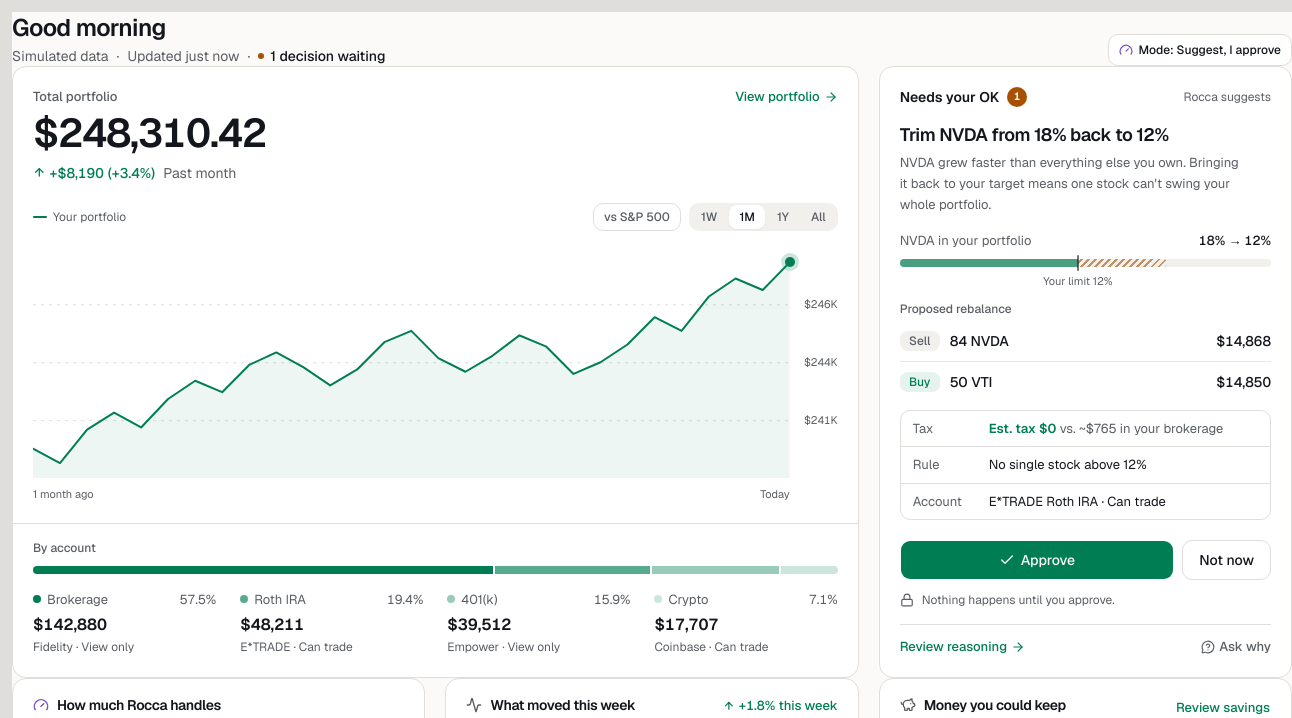
Test case: Overview › switches the chart range
Expected: the button "1M" is shown, [729,204,765,228]
Click the button "1W".
click(709, 216)  # box [691,204,727,228]
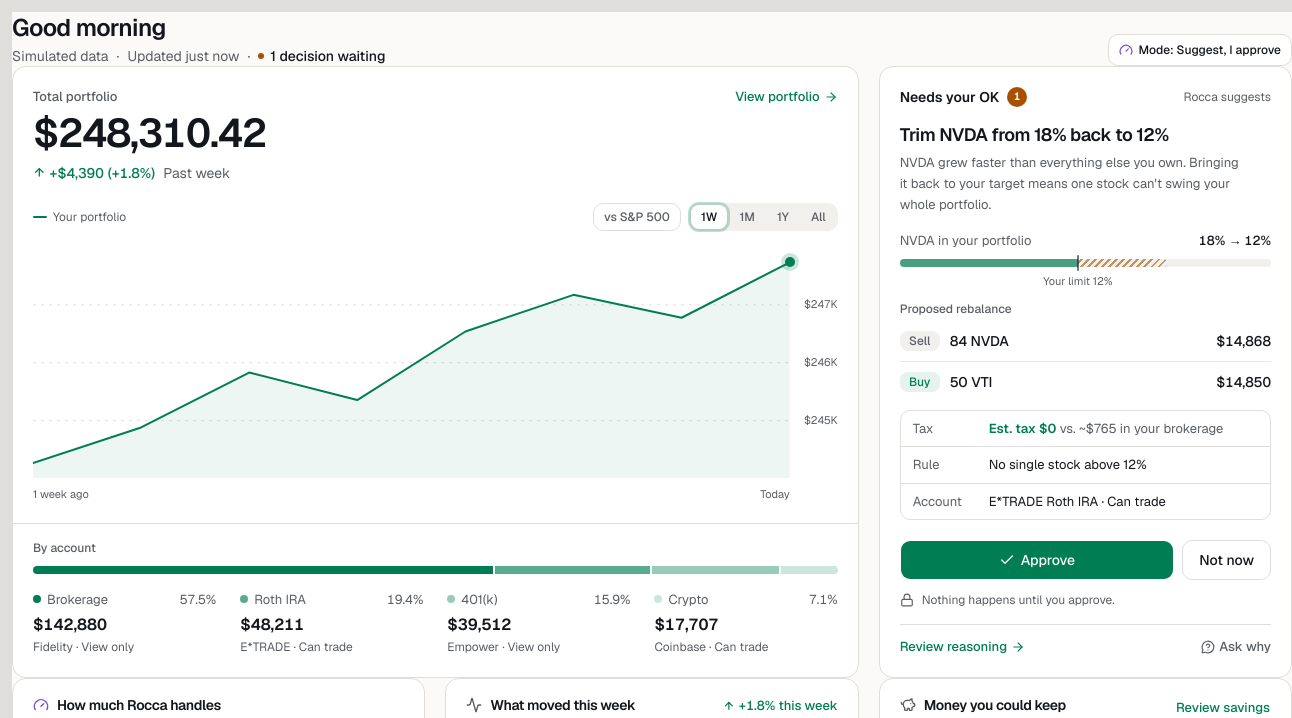
Result: the text "Past week" is shown at [163,162,230,182]
Result: the text "+1.8%" is shown at [112,164,151,182]
Result: the picture named "past week: +1.8%" is shown at [33,246,790,478]
